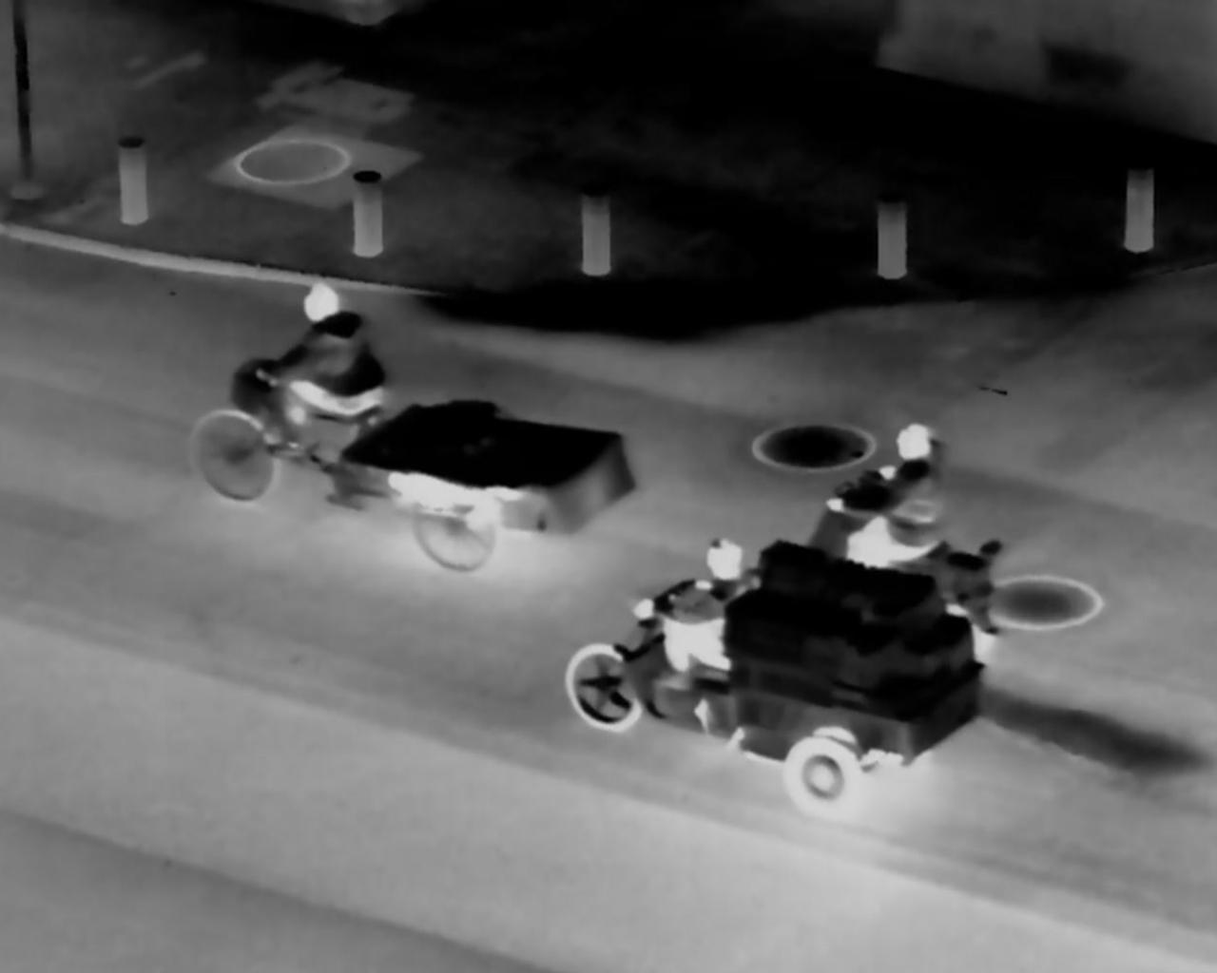person: (254, 275, 389, 444), (841, 409, 954, 579), (653, 528, 759, 674)
